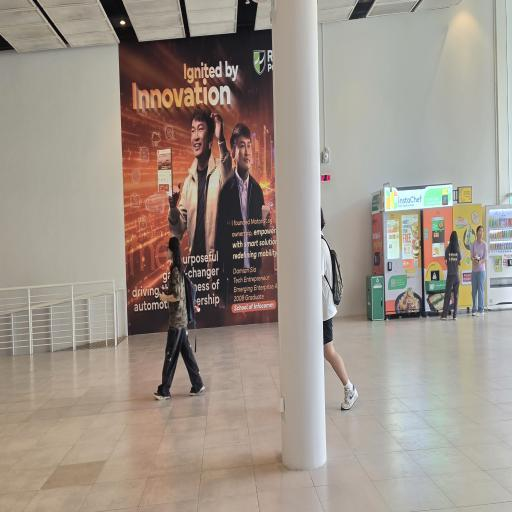person_left: (149, 224, 218, 402), (316, 206, 365, 415)
